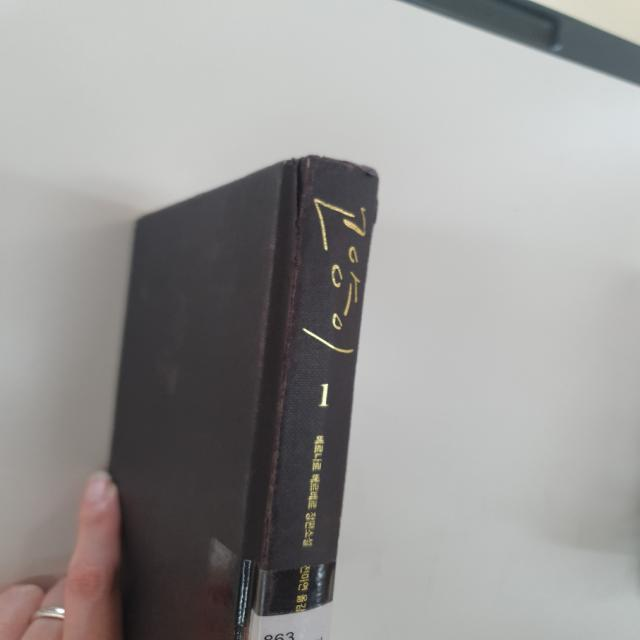Ripped: (257, 150, 318, 571)
Wornout: (318, 152, 382, 180)
